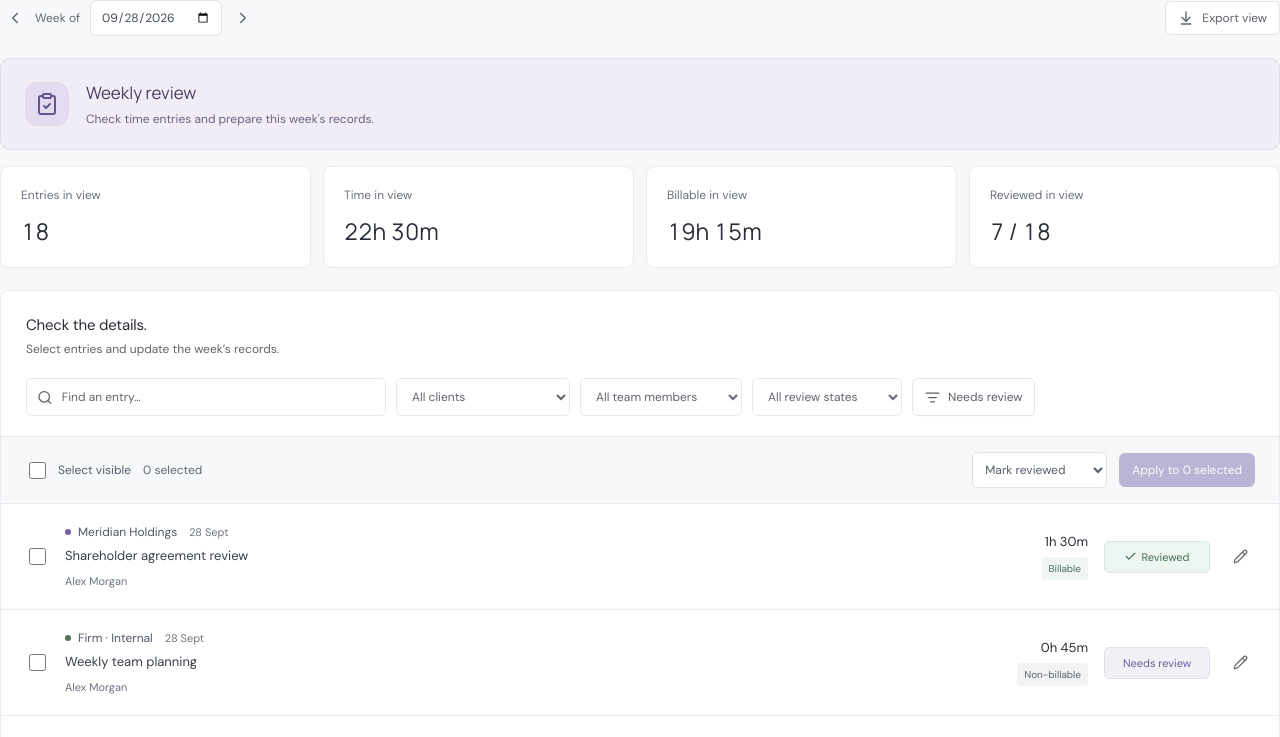
Test case: ReviewPage scope › clears the selection when the view changes so actions cannot touch hidden rows
Click the checkbox named "Select Shareholder agreement review": (38, 556) [29,548,46,564]
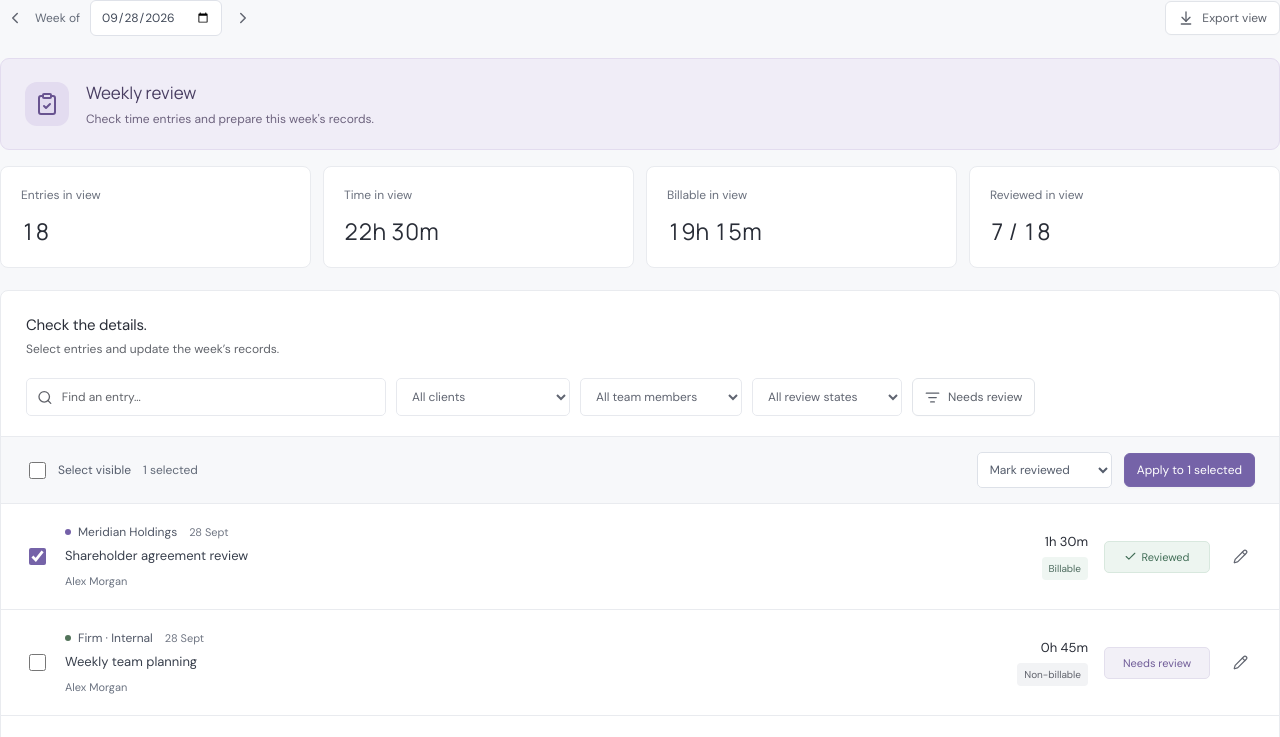
Check: the text "1 selected" is shown, box [143,462,198,478]
Select "Meridian Holdings" in the dropdown named "Review client": (483, 397) [396,378,570,416]
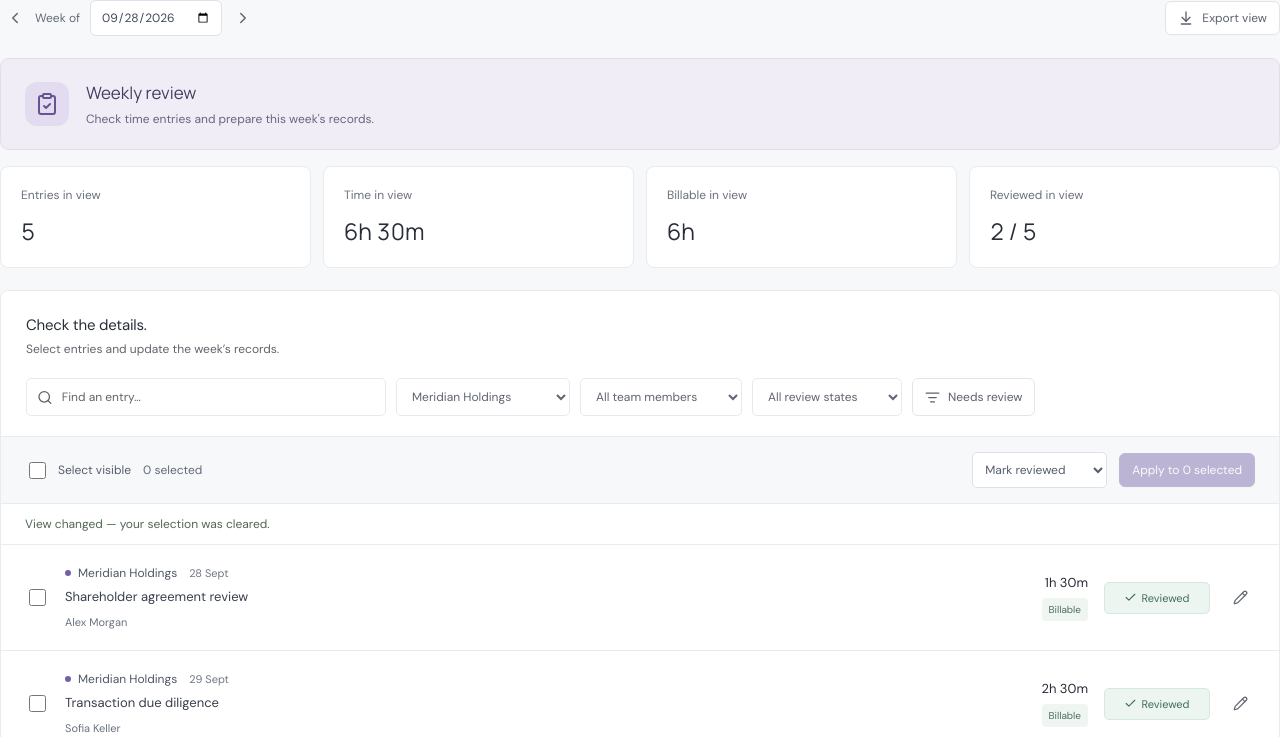
Check: the text "0 selected" is shown, box [143,462,202,478]
Check: the text "View changed — your selection was cleared." is shown, box [25,516,270,532]
Check: the button "Apply to 0 selected" is disabled, box [1119,453,1255,487]
